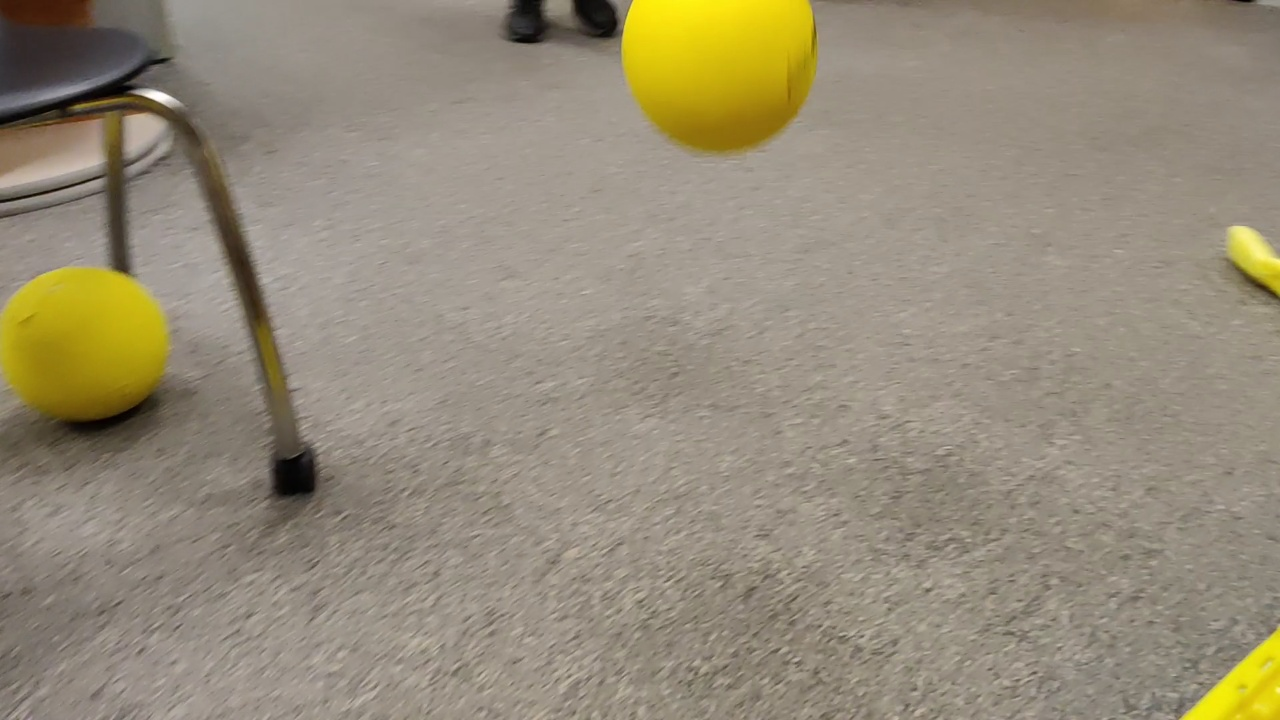Ball: (622, 1, 819, 156), (1, 264, 170, 422)
